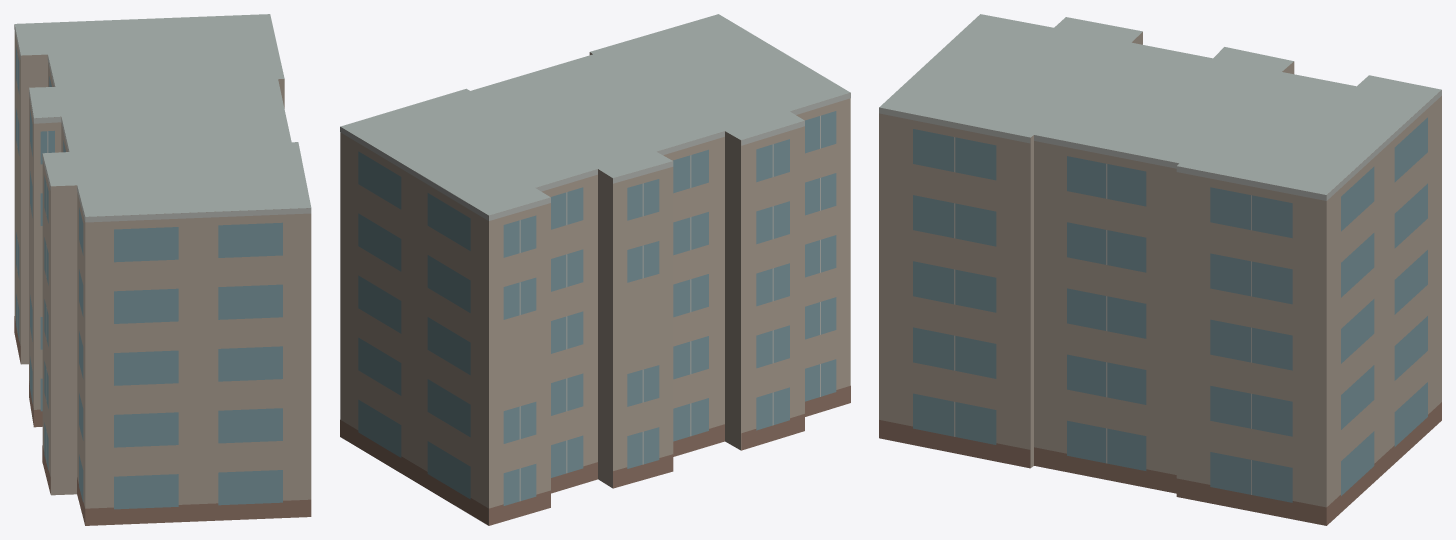
Rendered from survey-upis-32754889.glb.
The picture shows the model from 3 angles, left to right: view 1: azimuth 30°, elevation 25°; view 2: azimuth 150°, elevation 25°; view 3: azimuth 270°, elevation 25°; orthographic projection. The views are drawn at different scales.
Visible parts, largest first — view 1: survey-upis-32754889.tmp; view 2: survey-upis-32754889.tmp; view 3: survey-upis-32754889.tmp.
Part boxes in pixels (x1=…): survey-upis-32754889.tmp: x1=14, y1=14, x2=311, y2=525; survey-upis-32754889.tmp: x1=340, y1=14, x2=850, y2=525; survey-upis-32754889.tmp: x1=879, y1=14, x2=1441, y2=525.
Size of the model in its own units: 15.92 by 13.55 by 20.9.
